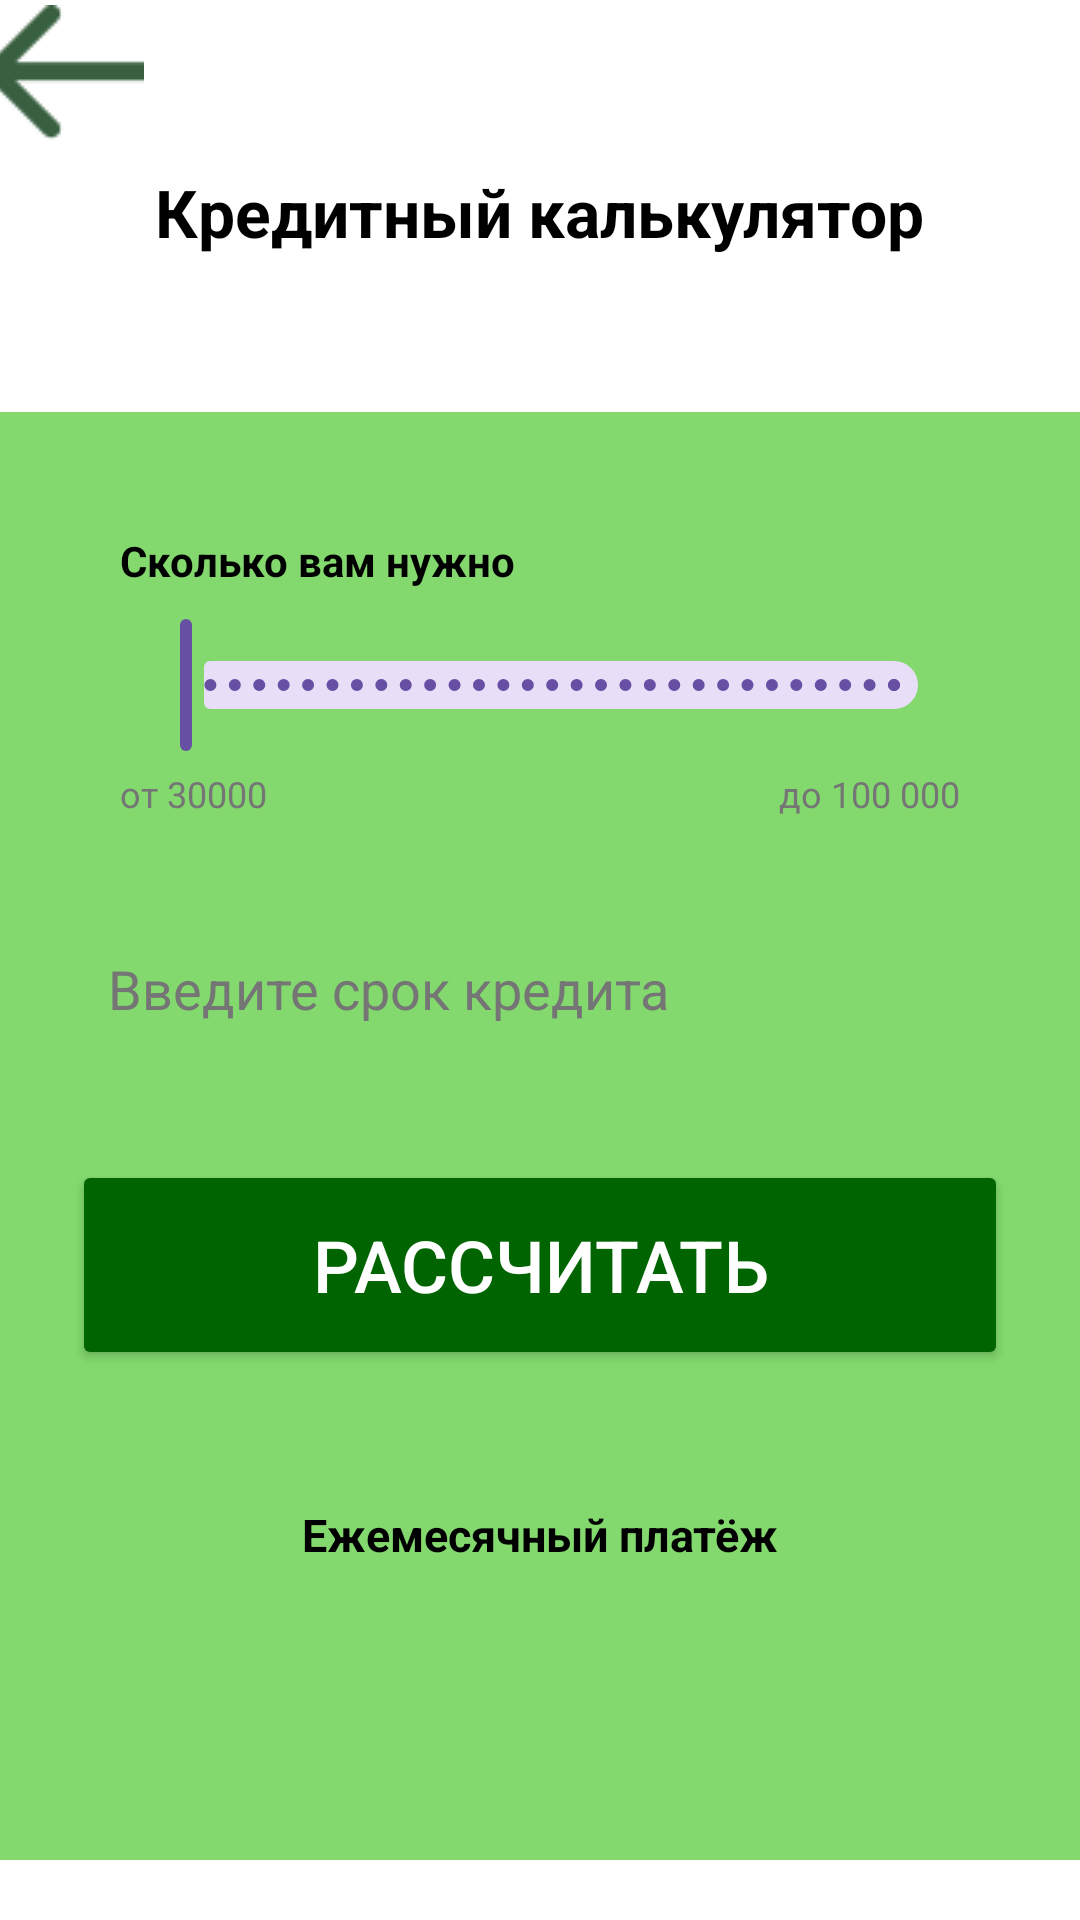

Icon click points for this 1080×1920 phone screenshot, format point (x, y):
Назад: point (72, 72)
